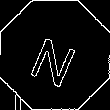N_NE: (27, 24, 83, 86)
